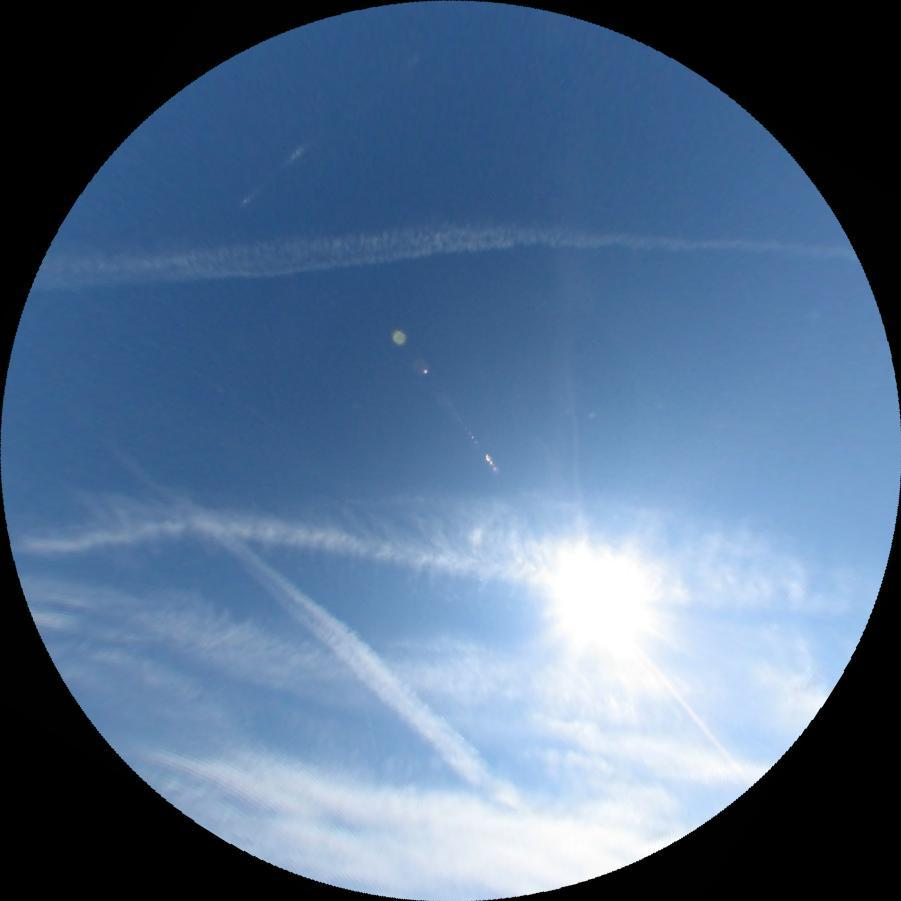contrail veryold: (103, 423, 533, 821), (9, 453, 886, 621), (30, 210, 858, 289)
parasite: (55, 274, 273, 424), (640, 651, 759, 782), (242, 143, 304, 206)
sun: (561, 553, 674, 672)
unknow: (565, 327, 586, 537)
